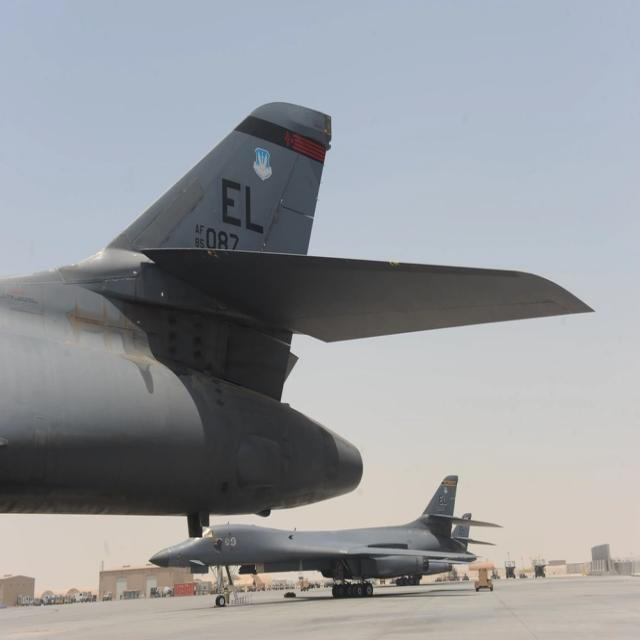B1: (0, 40, 613, 520), (143, 440, 506, 637)
